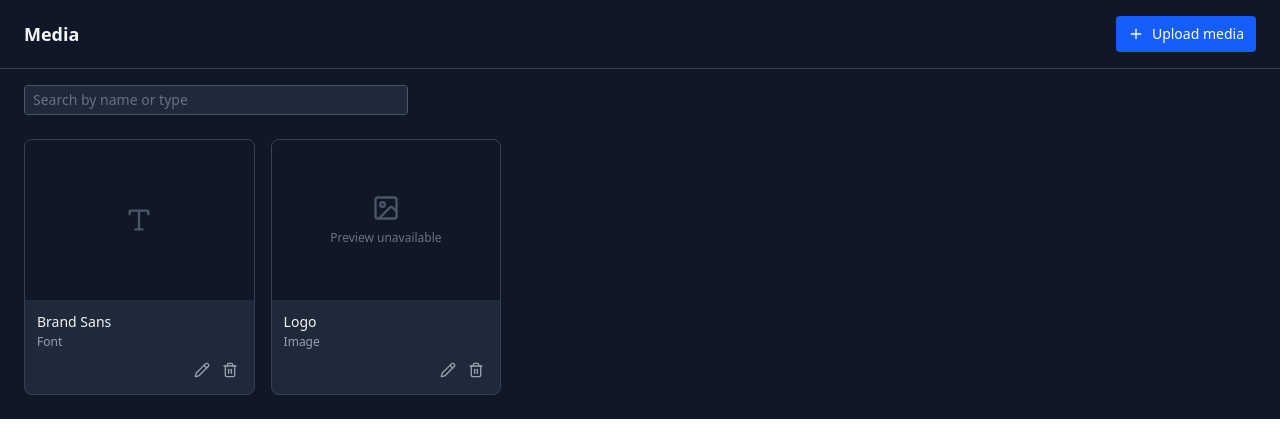
Scenario: MediaSection › confirms, then removes a resource
This screenshot has width=1280, height=436.
Expected: the text "Brand Sans" is shown, [37, 312, 111, 332]
Click the button named "Delete" below "Font" at (230, 370), box [218, 358, 242, 382]
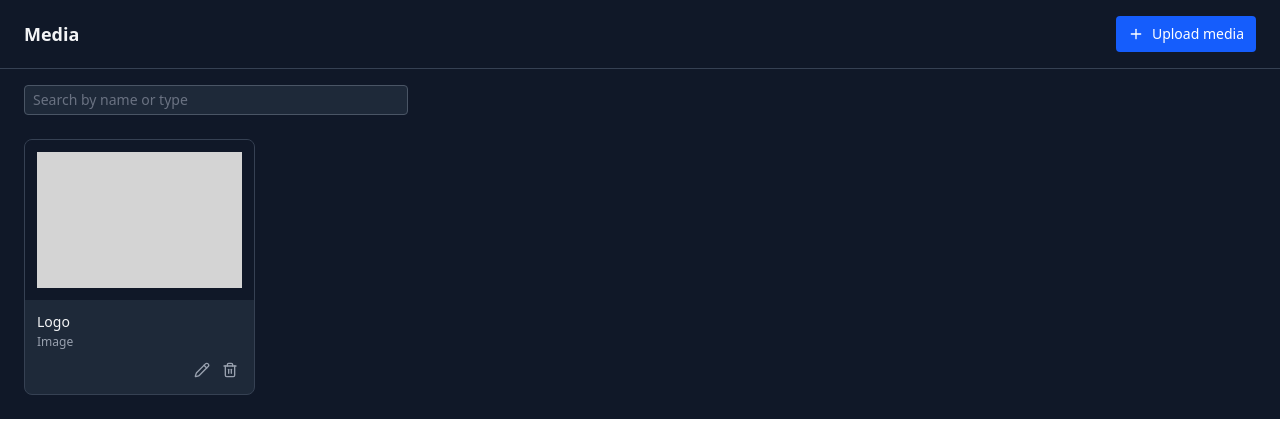
Now the text "Brand Sans" is gone
